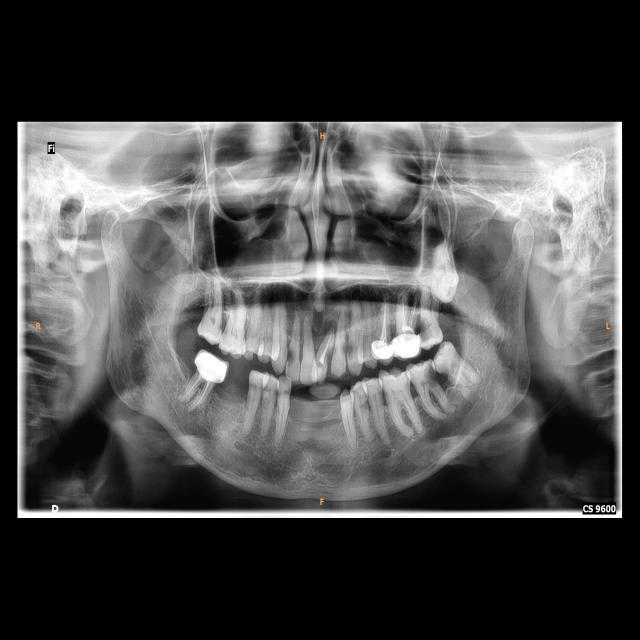dentin-curugu: (420, 319, 433, 344), (424, 364, 436, 390), (287, 343, 297, 368), (440, 363, 454, 378), (348, 341, 357, 361), (340, 337, 348, 357)
kanal-tedavisi: (396, 293, 416, 331), (186, 376, 210, 407), (318, 326, 334, 362), (378, 298, 389, 341)
kaplama: (195, 352, 229, 382), (394, 332, 422, 360), (373, 340, 394, 359)
